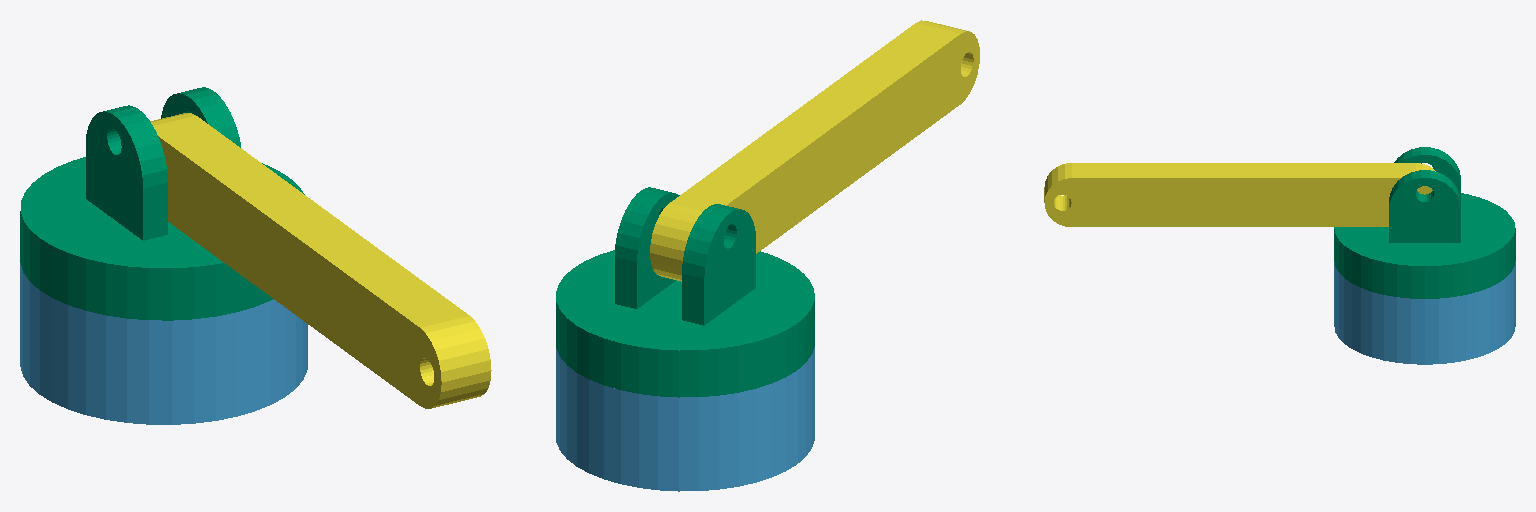
robot.urdf — arm:
<?xml version='1.0'?>
<robot name="arm">
  <link name="footprint" />

  <link name="base_link">
    <collision>
      <origin rpy="0 0 0" xyz="0 0 0"/>
      <geometry>
        <!--box size= ".6 .2 .1"/-->
        <mesh filename="package://arm_description/meshes/base_link.stl"/>
      </geometry>
    </collision>
    <visual>
      <origin rpy="0 0 0" xyz="0 0 0"/>
      <geometry>
        <!--box size= ".6 .2 .1"/-->
        <mesh filename="package://arm_description/meshes/base_link.stl"/>
      </geometry>
    </visual>
  </link>

  <joint name="ground_joint" type="fixed">
    <parent link="footprint"/>
    <child link="base_link"/>
  </joint>

  <link name="shoulder">
    <collision>
      <origin rpy="3.14159 0 0" xyz="0 0 0"/>
      <geometry>
        <!-- cylinder length="0.05" radius="0.1"/-->
        <mesh filename="package://arm_description/meshes/shoulder.stl"/>
      </geometry>
    </collision>
    <visual>
      <origin rpy="3.14159 0 0" xyz="0 0 0"/>
      <geometry>
        <!-- cylinder length="0.05" radius="0.1"/-->
        <mesh filename="package://arm_description/meshes/shoulder.stl"/>
      </geometry>
    </visual>
  </link>
  <joint name="base_joint" type="revolute">
    <safety_controller k_position="100.0" k_velocity="40.0" soft_lower_limit="-2.8973" soft_upper_limit="2.8973"/>
    <origin rpy="0 0 0" xyz="0 0 0.04"/>
    <child link="shoulder"/>
    <parent link="base_link"/>
    <axis rpy="0 0 0" xyz="0 0 1"/>
    <limit effort="87" lower="-2.8973" upper="2.8973" velocity="2.1750"/>
  </joint>

  <link name="elbow">
    <collision name="right_wheel_front_collision">
      <origin rpy="0 0 1.5707" xyz="0 0 0"/>
      <geometry>
        <!-- cylinder length="0.05" radius="0.1"/-->
        <mesh filename="package://arm_description/meshes/elbow.stl"/>
      </geometry>
    </collision>
    <visual name="right_wheel_front_visual">
      <origin rpy="0 0 1.5707" xyz="0 0 0"/>
      <geometry>
        <!-- cylinder length="0.05" radius="0.1"/-->
        <mesh filename="package://arm_description/meshes/elbow.stl"/>
      </geometry>
    </visual>
  </link>
  <joint name="shoulder_joint" type="revolute">
    <safety_controller k_position="100.0" k_velocity="40.0" soft_lower_limit="-2.8973" soft_upper_limit="2.8973"/>
    <origin rpy="1.5707 0 1.5707" xyz="0 0 0.02"/>
    <child link="elbow"/>
    <parent link="shoulder"/>
    <axis rpy="0 0 0" xyz="0 0 1"/>
    <limit effort="87" lower="-2.8973" upper="2.8973" velocity="2.1750"/>
  </joint>

  <gazebo>
		<plugin name="gazebo_ros_control" filename="libgazebo_ros_control.so">
		  <robotNamespace>/arm</robotNamespace>
		</plugin>
	</gazebo>
</robot>

--- Render facts (derived) ---
3 views of the same robot in one strip: view 1: azimuth 30°, elevation 25°; view 2: azimuth 150°, elevation 25°; view 3: azimuth 270°, elevation 25° (orthographic).
Model arm with 4 links and 3 joints (2 revolute, 1 fixed), rooted at footprint, posed all joints at 0.
Visible links, largest first — view 1: elbow, shoulder, base_link; view 2: shoulder, elbow, base_link; view 3: elbow, shoulder, base_link.
Link boxes in pixels (x1=…): elbow: x1=150, y1=113, x2=491, y2=408; shoulder: x1=20, y1=87, x2=304, y2=320; base_link: x1=20, y1=263, x2=307, y2=424; shoulder: x1=556, y1=187, x2=814, y2=397; elbow: x1=650, y1=20, x2=979, y2=281; base_link: x1=556, y1=347, x2=814, y2=491; elbow: x1=1044, y1=163, x2=1435, y2=226; shoulder: x1=1334, y1=147, x2=1515, y2=298; base_link: x1=1334, y1=261, x2=1515, y2=364.
Bounding box of the posed robot: 0.1 × 0.26 × 0.0999 m (x, y, z).
Meshes: 3 distinct files referenced, 3 mesh visuals loaded (3 binary STL).